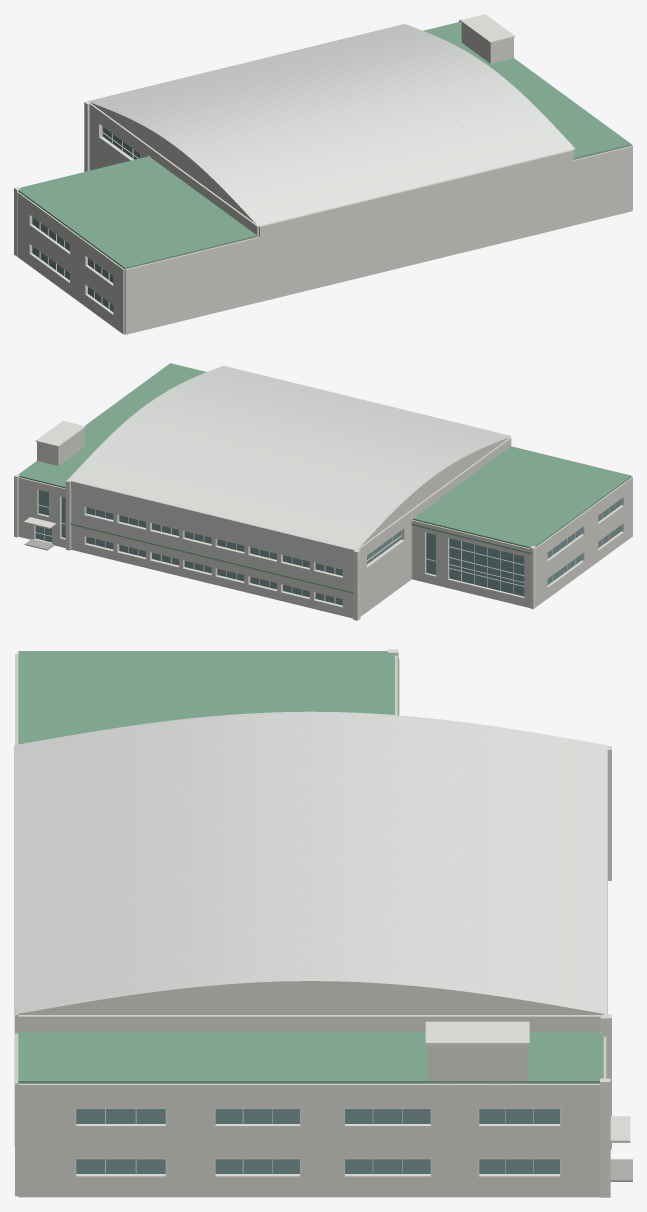
The picture shows the model from 3 angles, top to bottom: view 1: azimuth 30°, elevation 25°; view 2: azimuth 150°, elevation 25°; view 3: azimuth 270°, elevation 25°; orthographic projection. The views are drawn at different scales.
Parts seen in each view (by area): view 1: N6 continuous curved barrel roof, N6 rear opaque lower wall, N6 left annex roof, N6 left annex back, N6 left annex end wall, N6 right annex green roof, N6 right annex rear, N6 hall side -14.25 wall, N6 barrel standing seam, N6 curved roof end cap, N6 right stair box, N6 left annex end recessed glass (+2 smaller); view 2: N6 continuous curved barrel roof, N6 east front hall wall, N6 left annex roof, N6 left annex end wall, N6 hall side -14.25 wall, N6 right annex green roof, N6 left annex front recessed glass, N6 left annex front wall, N6 east front hall recessed glass, N6 barrel standing seam, N6 east front hall reveal sill head, N6 right annex front wall (+11 smaller); view 3: N6 continuous curved barrel roof, N6 right annex end wall, N6 left annex roof, N6 right annex green roof, N6 curved roof end cap, N6 right annex end recessed glass, N6 hall side 23.2 wall, N6 barrel standing seam, N6 right annex end reveal sill head, N6 right stair box, N6 right stair box cap, N6 annex bright corner pier (+1 smaller).
Boxes of the visible parts, box(x1,y1,x2,y2) form: N6 continuous curved barrel roof: box(88, 24, 575, 226); N6 rear opaque lower wall: box(259, 150, 573, 301); N6 left annex roof: box(18, 156, 257, 269); N6 left annex back: box(124, 237, 259, 334); N6 left annex end wall: box(17, 191, 124, 334); N6 right annex green roof: box(423, 21, 631, 159); N6 right annex rear: box(573, 146, 632, 225); N6 hall side -14.25 wall: box(89, 103, 260, 236); N6 barrel standing seam: box(125, 40, 529, 189); N6 curved roof end cap: box(91, 102, 255, 223); N6 right stair box: box(461, 22, 513, 63); N6 left annex end recessed glass: box(32, 217, 113, 311); N6 continuous curved barrel roof: box(68, 365, 511, 549); N6 east front hall wall: box(71, 480, 355, 618); N6 left annex roof: box(413, 446, 631, 548); N6 left annex end wall: box(536, 477, 632, 606); N6 hall side -14.25 wall: box(357, 437, 511, 616); N6 right annex green roof: box(18, 363, 206, 488); N6 left annex front recessed glass: box(426, 532, 524, 596); N6 left annex front wall: box(412, 520, 529, 607); N6 east front hall recessed glass: box(86, 507, 342, 605); N6 barrel standing seam: box(110, 380, 479, 516); N6 east front hall reveal sill head: box(84, 506, 343, 607); N6 right annex front wall: box(18, 477, 65, 547); N6 continuous curved barrel roof: box(14, 711, 607, 1014); N6 right annex end wall: box(18, 1083, 599, 1197); N6 left annex roof: box(18, 651, 394, 744); N6 right annex green roof: box(18, 1032, 603, 1083); N6 curved roof end cap: box(18, 981, 603, 1014); N6 right annex end recessed glass: box(76, 1109, 559, 1173); N6 hall side 23.2 wall: box(18, 1015, 603, 1031); N6 barrel standing seam: box(131, 713, 490, 984); N6 right annex end reveal sill head: box(74, 1107, 561, 1177); N6 right stair box: box(427, 1045, 527, 1083); N6 right stair box cap: box(425, 1021, 529, 1044); N6 annex bright corner pier: box(387, 649, 610, 1197).
Bounding box in the file's own units: 60.94 × 10.98 × 36.86.
